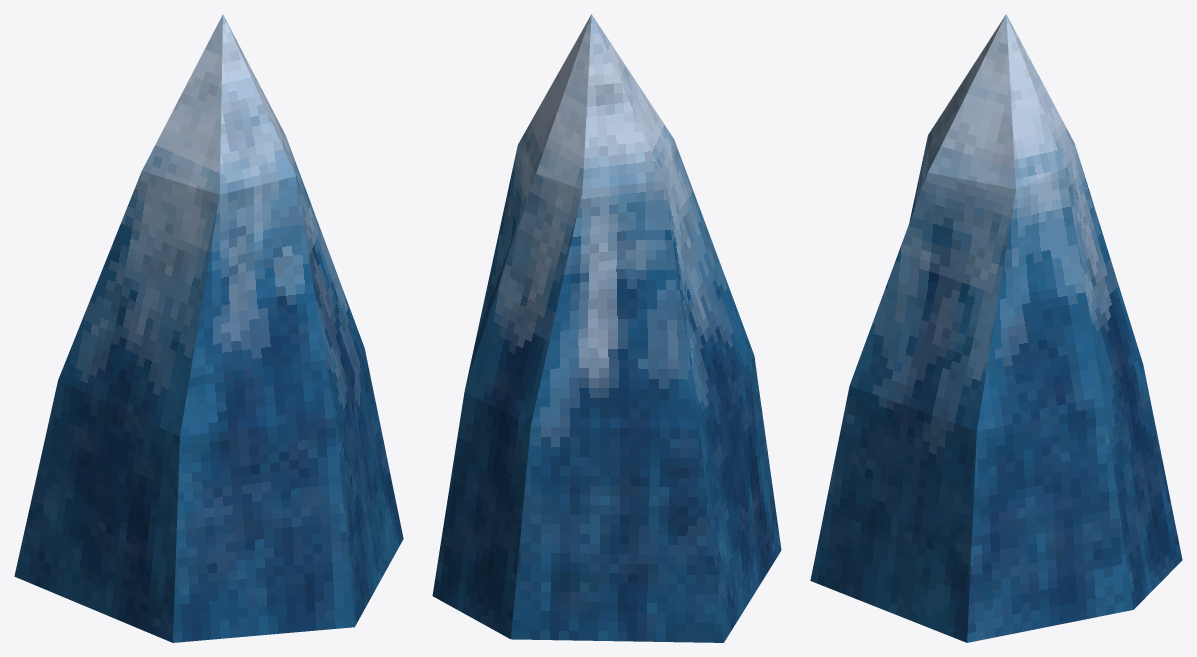
Rendered from IcyAttack.glb.
3 renders of one model, left to right at view 1: azimuth 30°, elevation 25°; view 2: azimuth 150°, elevation 25°; view 3: azimuth 270°, elevation 25°, orthographic.
Visible parts, largest first — view 1: IcyPeak; view 2: IcyPeak; view 3: IcyPeak.
Boxes of the visible parts, bbox=[...] form: IcyPeak: bbox=[14, 14, 403, 642]; IcyPeak: bbox=[432, 14, 781, 642]; IcyPeak: bbox=[810, 14, 1182, 642].
Bounding box in the file's own units: 1.95 × 3.1 × 1.9.
1 material, 1 textured.
